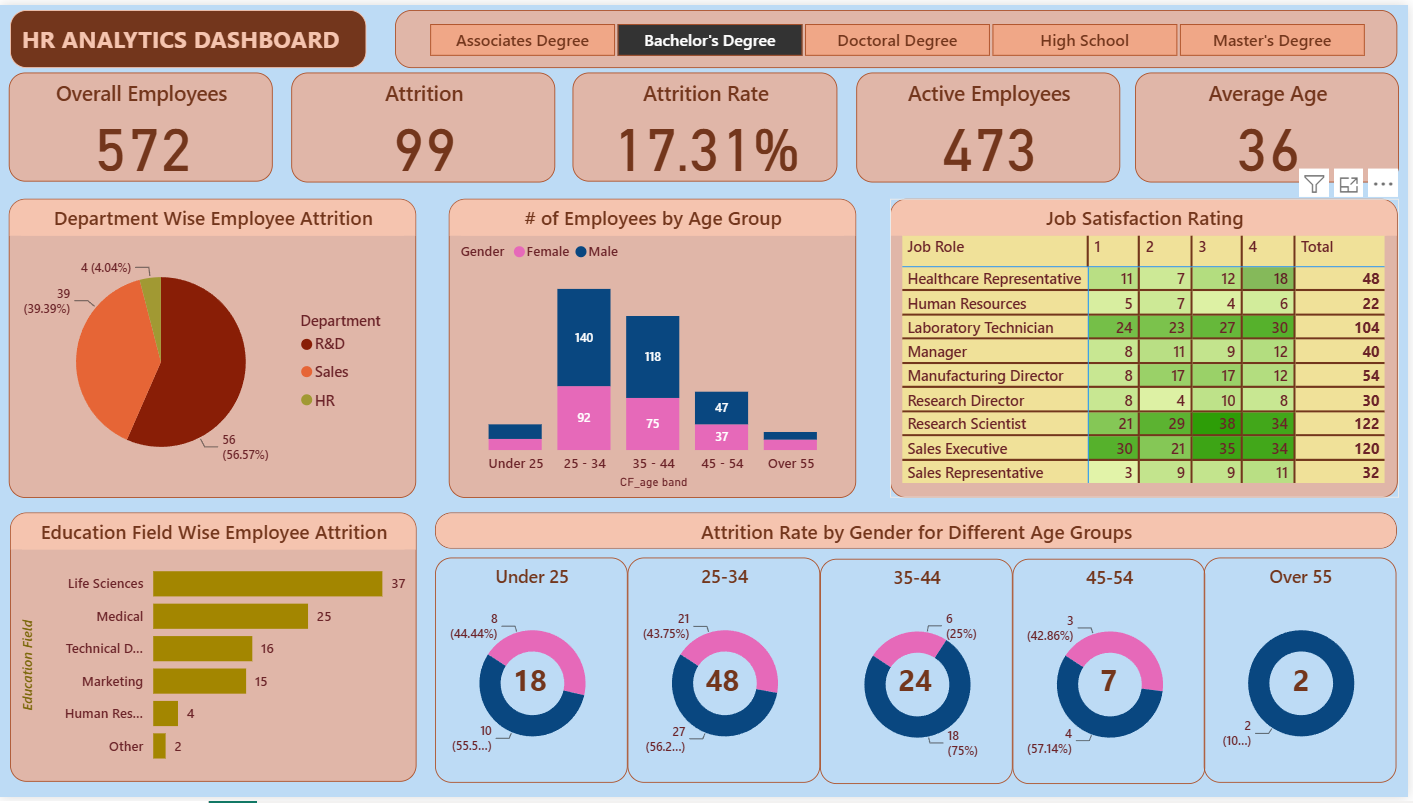

This screenshot's page, from the dashboard's own definition file:
{"tool":"powerbi","page":{"name":"HR Analytics Dashboard","canvas":[1280,720],"ordinal":0},"visuals":[{"type":"card","title":"Overall Employees","fields":{"Values":["Sum(HR data.Employee Count)"]},"box":[8.3,61.5,239.9,99.1],"z":0},{"type":"card","title":"Attrition ","fields":{"Values":["Sum(HR data.Attrition Count)"]},"box":[264.9,61.5,239.9,100.1],"z":1000},{"type":"card","title":"Attrition Rate","fields":{"Values":["HR data.Attrition Rate"]},"box":[520.4,61.5,240.9,99.1],"z":2000},{"type":"card","title":"Active Employees","fields":{"Values":["HR data.Active employees"]},"box":[778,61.5,239.9,100.1],"z":3000},{"type":"card","title":"Average Age","fields":{"Values":["Avg(HR data.Age)"]},"box":[1031.4,61.5,239.9,100.1],"z":4000},{"type":"pieChart","title":"Department Wise Employee Attrition","fields":{"Category":["HR data.Department"],"Y":["Sum(HR data.Attrition Count)"]},"box":[8.4,175.8,370.2,272.1],"z":5000},{"type":"columnChart","title":"# of Employees by Age Group","fields":{"Category":["HR data.CF_age band"],"Y":["Sum(HR data.Employee Count)"],"Series":["HR data.Gender"]},"box":[407.6,175.8,370.2,272.1],"z":6000},{"type":"pivotTable","title":"Job Satisfaction Rating","fields":{"Rows":["HR data.Job Role"],"Columns":["HR data.Job Satisfaction"],"Values":["Sum(HR data.Employee Count)"]},"box":[809.6,175.8,461.8,272.1],"z":7000},{"type":"barChart","title":"Education Field Wise Employee Attrition","fields":{"Category":["HR data.Education Field"],"Y":["Sum(HR data.Attrition Count)"]},"box":[9.3,461.8,369.3,244.9],"z":8000},{"type":"donutChart","title":"Under 25","fields":{"Category":["HR data.Gender"],"Y":["Sum(HR data.Attrition Count)"],"Series":["HR data.CF_age band"]},"box":[395.5,502,174.8,204.7],"z":9000},{"type":"textbox","title":"Attrition Rate by Gender for Different Age Groups","box":[395.5,461.8,874.1,32.7],"z":10000},{"type":"donutChart","title":"25-34","fields":{"Category":["HR data.Gender"],"Y":["Sum(HR data.Attrition Count)"],"Series":["HR data.CF_age band"]},"box":[570.3,502,174.8,204.7],"z":11000},{"type":"donutChart","title":"35-44","fields":{"Category":["HR data.Gender"],"Y":["Sum(HR data.Attrition Count)"],"Series":["HR data.CF_age band"]},"box":[745.1,503,174.8,204.7],"z":12000},{"type":"donutChart","title":"45-54","fields":{"Category":["HR data.Gender"],"Y":["Sum(HR data.Attrition Count)"],"Series":["HR data.CF_age band"]},"box":[919.9,503,174.8,204.7],"z":13000},{"type":"donutChart","title":"Over 55","fields":{"Category":["HR data.Gender"],"Y":["Sum(HR data.Attrition Count)"],"Series":["HR data.CF_age band"]},"box":[1094.8,502,174.8,204.7],"z":14000},{"type":"card","fields":{"Values":["Sum(HR data.Attrition Count)"]},"box":[459,597.4,45.8,33.7],"z":15000},{"type":"card","fields":{"Values":["Sum(HR data.Attrition Count)"]},"box":[628.8,597.5,57.4,33.4],"z":16000},{"type":"card","fields":{"Values":["Sum(HR data.Attrition Count)"]},"box":[806.1,597.5,53.2,33.4],"z":17000},{"type":"card","fields":{"Values":["Sum(HR data.Attrition Count)"]},"box":[985.4,597.4,45.8,33.7],"z":18000},{"type":"card","fields":{"Values":["Sum(HR data.Attrition Count)"]},"box":[1160.2,597.4,45.8,33.7],"z":19000},{"type":"textbox","box":[9.4,4.2,324.3,53.2],"z":20000},{"type":"slicer","fields":{"Values":["HR data.Education"]},"box":[358.7,4.2,911.4,53],"z":21000}]}

Visuals, with their boxes in screenshot pixels (x1, y1, x2, y2), scaled from the page's 1280x720 canvas onto the 1413x803 screenshot:
"Overall Employees" card: (9, 69, 274, 179)
"Attrition " card: (292, 69, 557, 180)
"Attrition Rate" card: (574, 69, 840, 179)
"Active Employees" card: (859, 69, 1124, 180)
"Average Age" card: (1139, 69, 1403, 180)
"Department Wise Employee Attrition" pieChart: (9, 196, 418, 500)
"# of Employees by Age Group" columnChart: (450, 196, 859, 500)
"Job Satisfaction Rating" pivotTable: (894, 196, 1404, 500)
"Education Field Wise Employee Attrition" barChart: (10, 515, 418, 788)
"Under 25" donutChart: (437, 560, 630, 788)
"Attrition Rate by Gender for Different Age Groups" textbox: (437, 515, 1402, 552)
"25-34" donutChart: (630, 560, 823, 788)
"35-44" donutChart: (823, 561, 1015, 789)
"45-54" donutChart: (1015, 561, 1208, 789)
"Over 55" donutChart: (1209, 560, 1402, 788)
card - Sum(HR data.Attrition Count): (507, 666, 557, 704)
card - Sum(HR data.Attrition Count): (694, 666, 758, 704)
card - Sum(HR data.Attrition Count): (890, 666, 949, 704)
card - Sum(HR data.Attrition Count): (1088, 666, 1138, 704)
card - Sum(HR data.Attrition Count): (1281, 666, 1331, 704)
textbox: (10, 5, 368, 64)
slicer - HR data.Education: (396, 5, 1402, 64)
